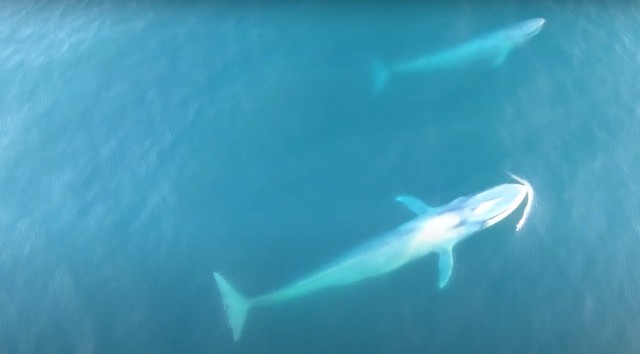whale: (189, 174, 543, 349), (363, 11, 553, 107)
